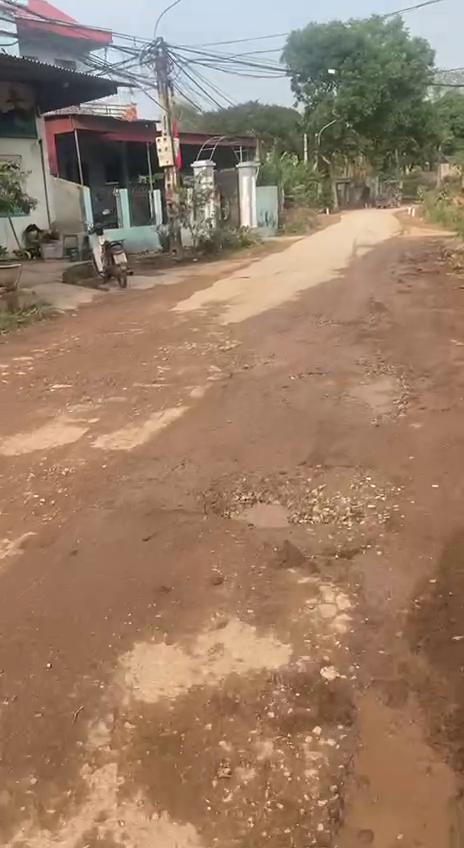pothole: (300, 677, 464, 848), (204, 455, 404, 555), (292, 360, 410, 422)
